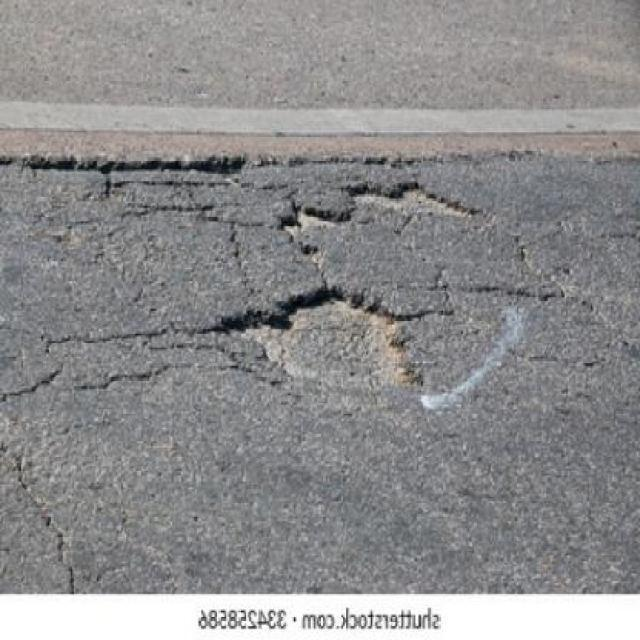Pothole: (211, 277, 431, 401), (278, 172, 478, 258)
